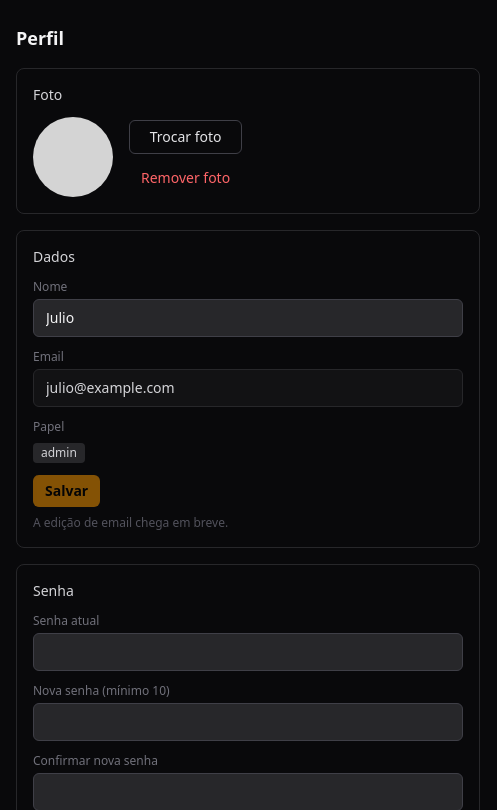
Test: SettingsPage password › validates and submits a password change
Type "senha-atual-1" into the password field labelled "Senha atual" at (248, 652), box [33, 633, 463, 671]
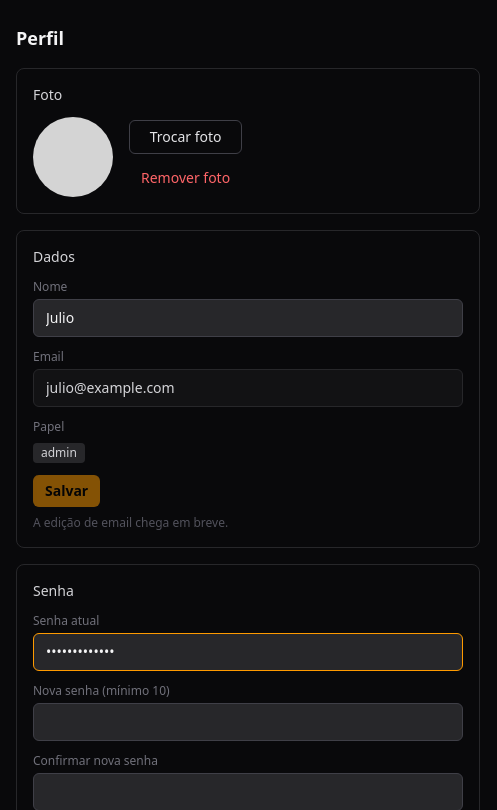
Type "nova-senha-segura-9" into the password field labelled "Nova senha" at (248, 722), box [33, 703, 463, 741]
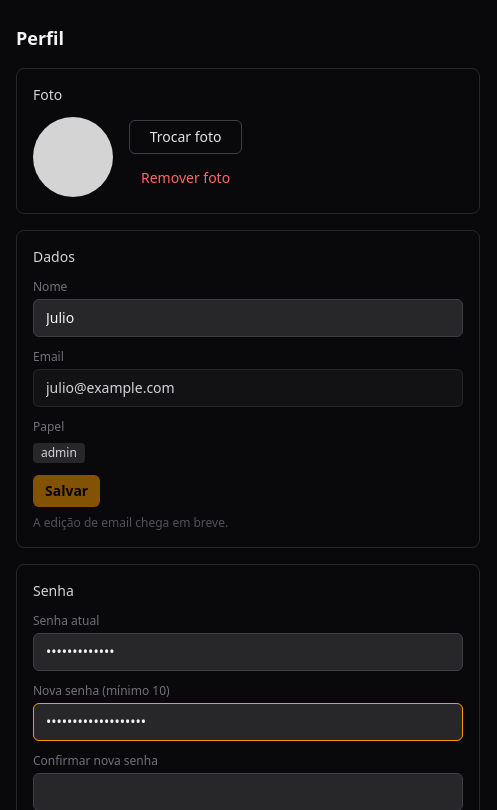
Type "nova-senha-segura-9" into the password field labelled "Confirmar nova senha" at (248, 792), box [33, 773, 463, 809]
(page scrolled)
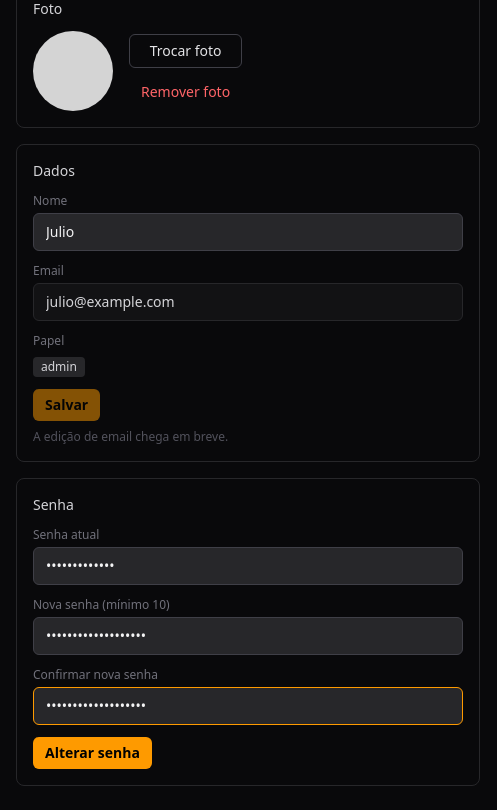
Click the button "Alterar senha" at (92, 753), box [33, 737, 152, 769]
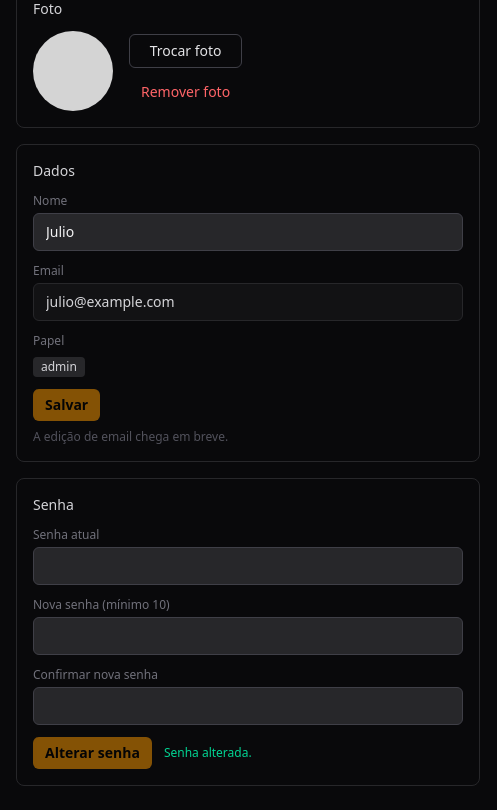
expect the text "Senha alterada." is shown: met, box [164, 745, 252, 761]
